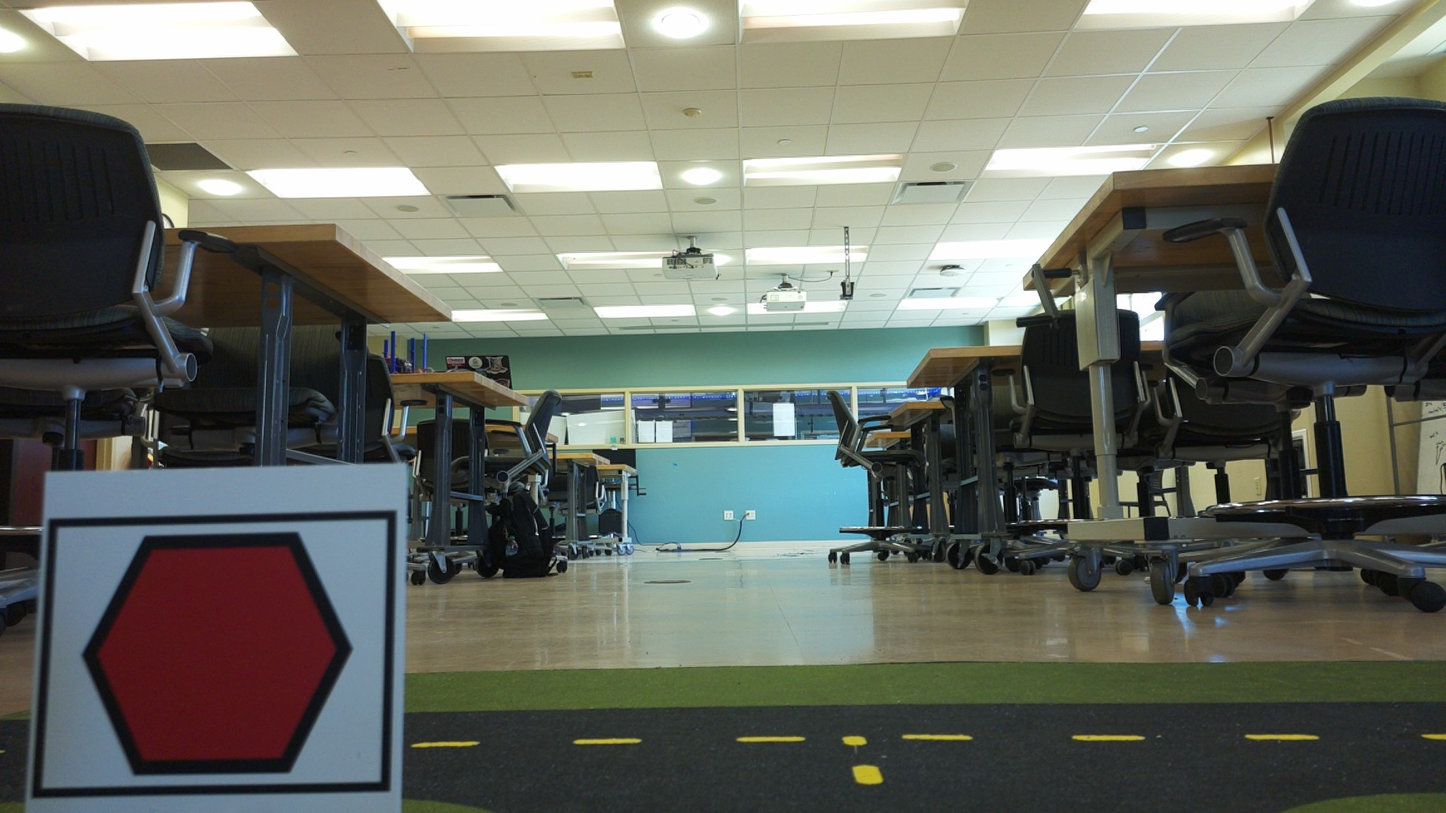stop: (63, 525, 369, 790)
yellowline: (416, 735, 1441, 750), (842, 732, 886, 788)
